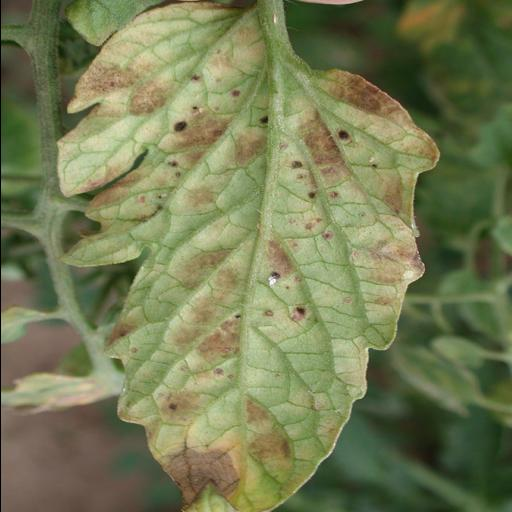disease_tomato: (56, 4, 440, 512)
